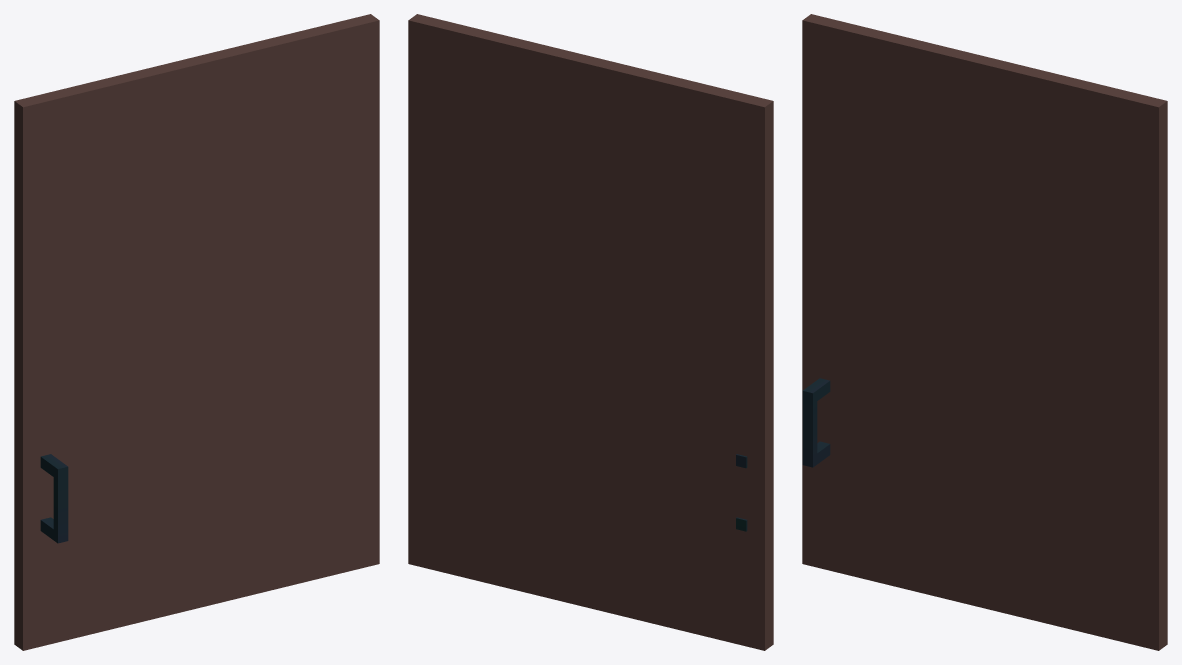
File: Door.fbx
3 renders of one model, left to right at view 1: azimuth 30°, elevation 25°; view 2: azimuth 150°, elevation 25°; view 3: azimuth 330°, elevation 25°, orthographic.
Parts seen in each view (by area): view 1: Cube.018; view 2: Cube.018; view 3: Cube.018.
Boxes of the visible parts, box(x1,y1,x2,y2) form: Cube.018: box(14, 14, 379, 650); Cube.018: box(408, 14, 773, 650); Cube.018: box(802, 14, 1167, 650).
Bounding box in the file's own units: 264 × 385 × 34.76.
